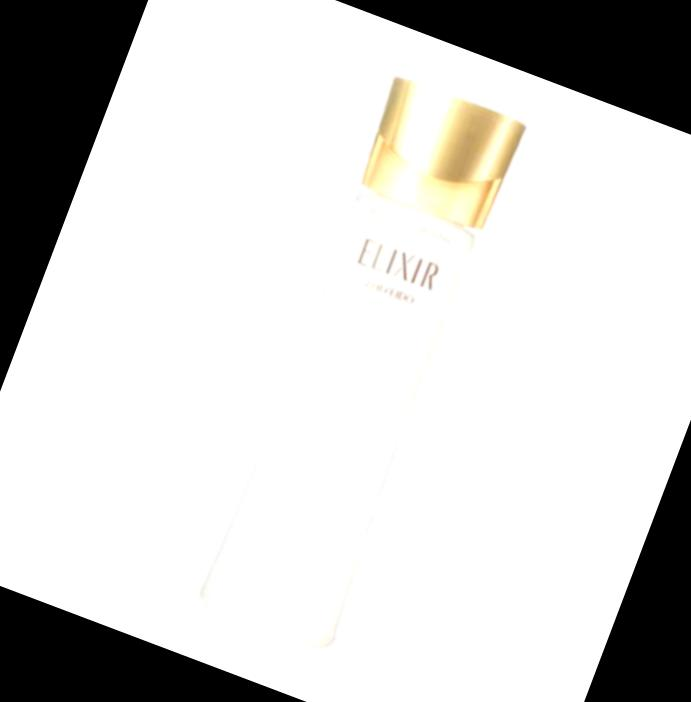cosmetic: (196, 72, 532, 656)
